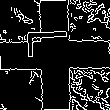L_E: (29, 39, 81, 71)
